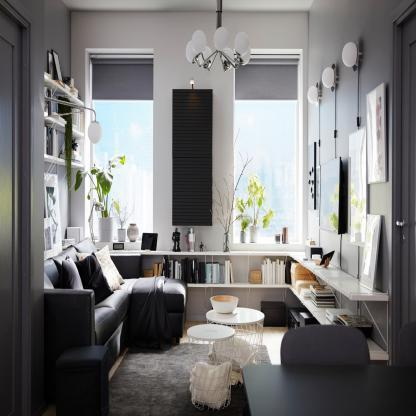bantal: (78, 258, 112, 299)
buku: (311, 284, 336, 310)
kursi: (80, 166, 115, 239), (247, 179, 272, 243)
sova: (43, 239, 188, 360)
